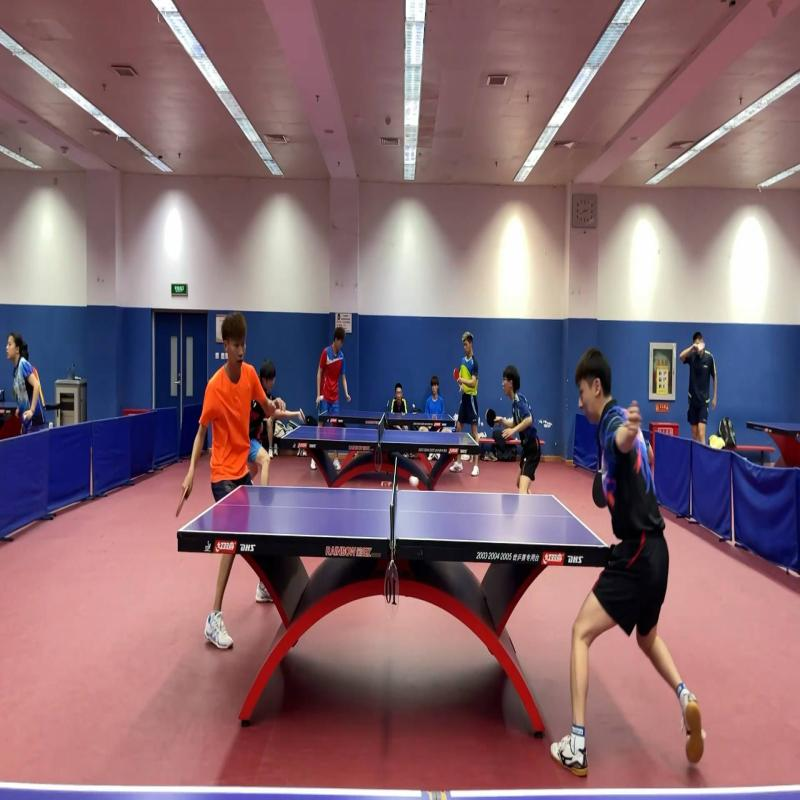bats: (162, 467, 195, 526)
